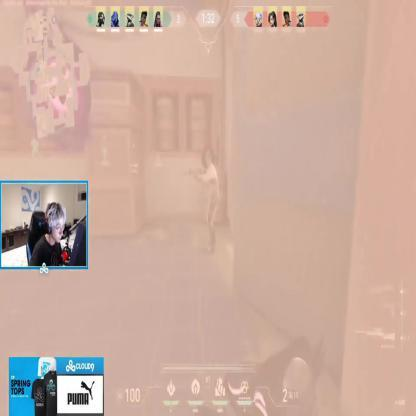enemy: (194, 152, 220, 254)
enemy_head: (204, 152, 212, 166)
